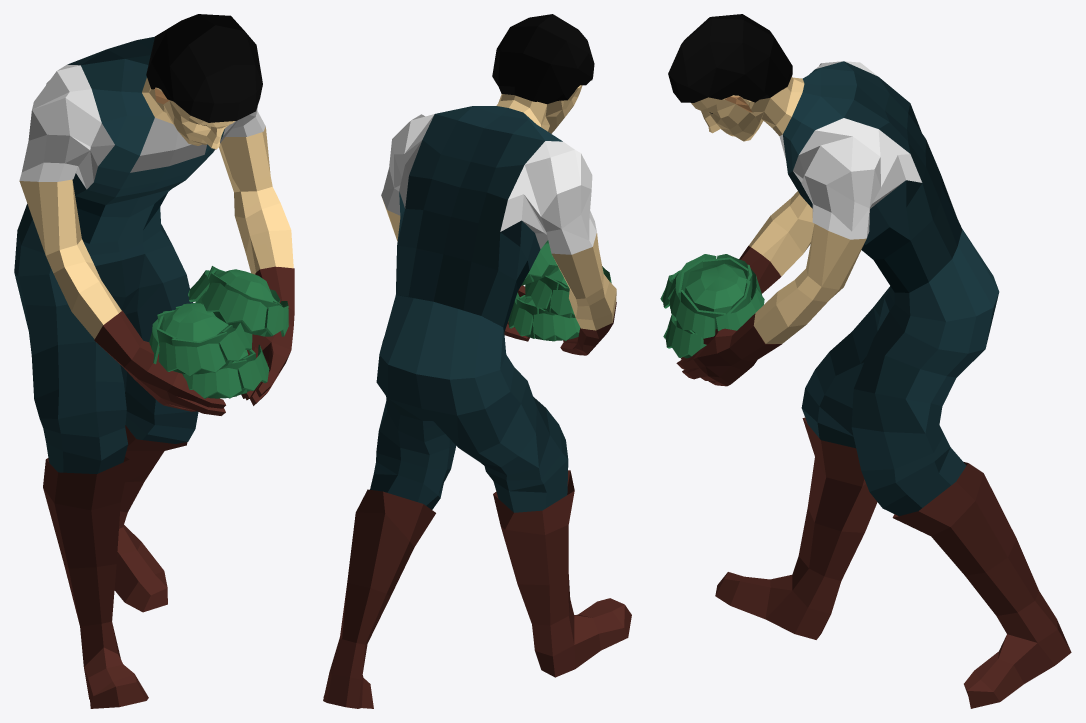
The model's file is Male_pose_01.FBX.
3 renders of one model, left to right at view 1: azimuth 30°, elevation 25°; view 2: azimuth 150°, elevation 25°; view 3: azimuth 270°, elevation 25°, orthographic. The views are drawn at different scales.
Visible parts, largest first — view 1: Male_pose_01; view 2: Male_pose_01; view 3: Male_pose_01.
Boxes of the visible parts, box(x1,y1,x2,y2) form: Male_pose_01: box(14, 14, 294, 708); Male_pose_01: box(323, 14, 631, 708); Male_pose_01: box(660, 14, 1071, 708).
Size of the model in its own units: 0.5899 by 1.65 by 0.9448.
Materials: 1 (1 with a texture image).
